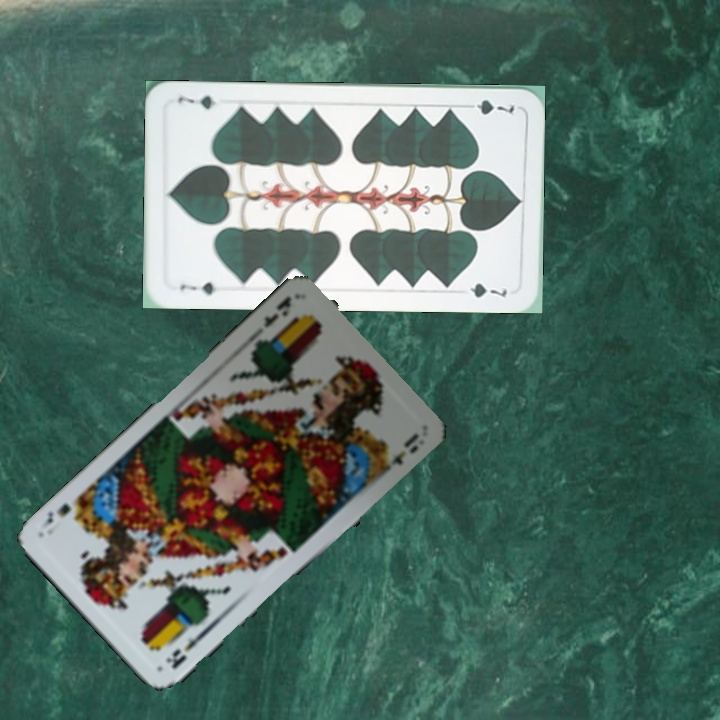EK: (162, 625, 211, 672), (259, 291, 294, 330)
G7: (460, 95, 517, 117), (176, 278, 219, 298)
